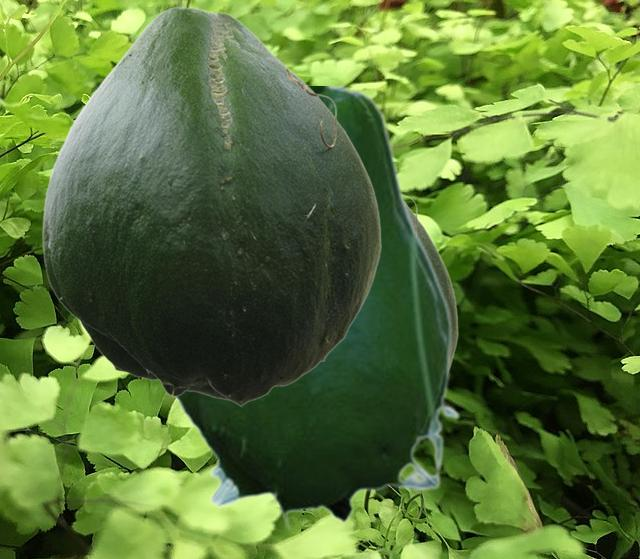sayote: (42, 6, 380, 406), (172, 86, 460, 531), (404, 194, 457, 370)
